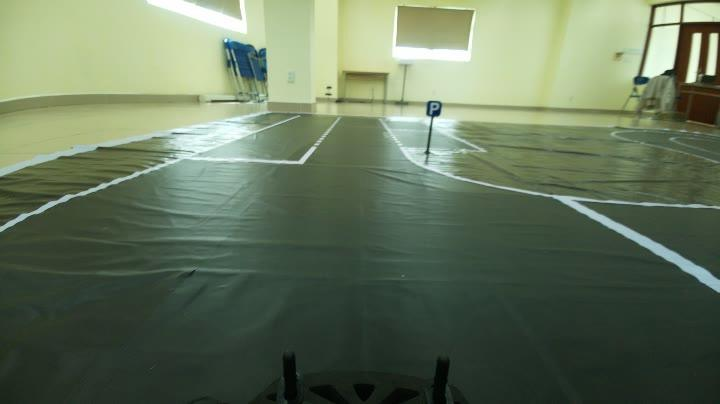parking: (417, 93, 450, 122)
